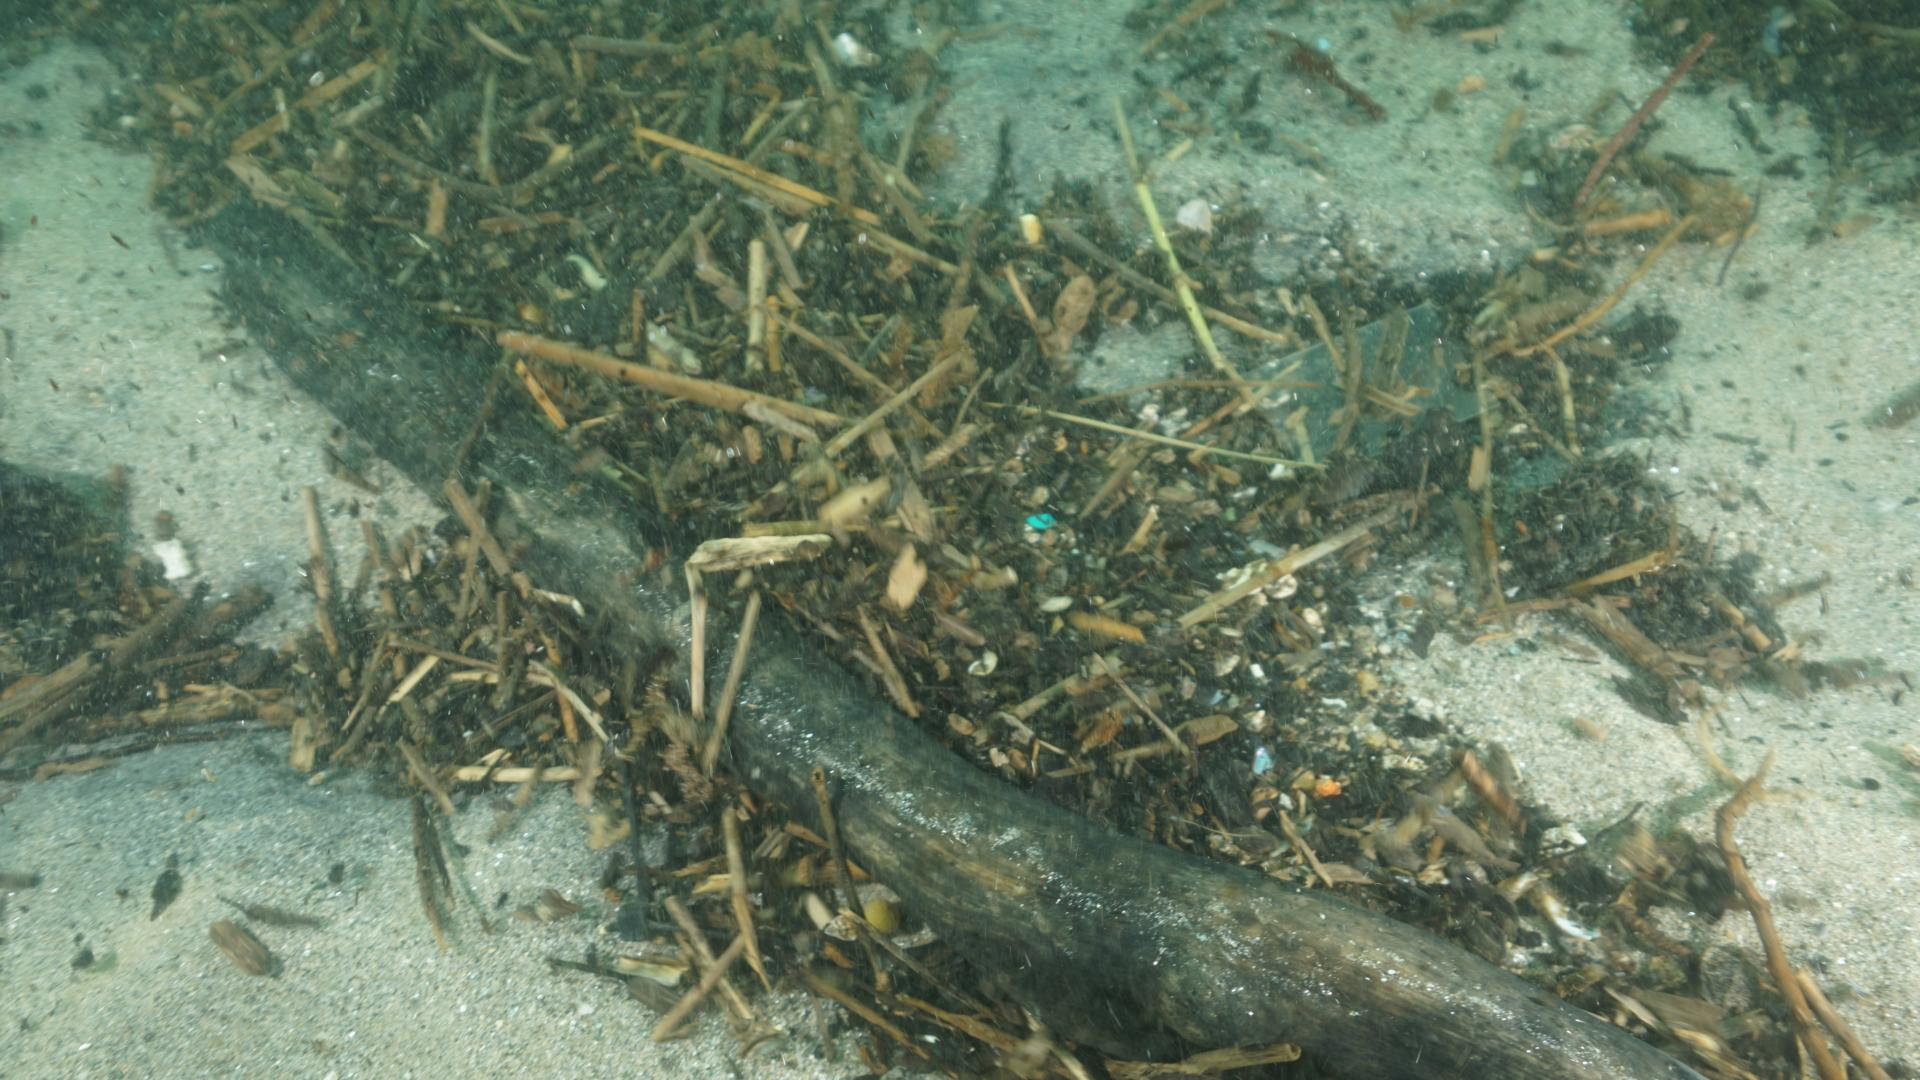wood: (211, 199, 1708, 1080)
